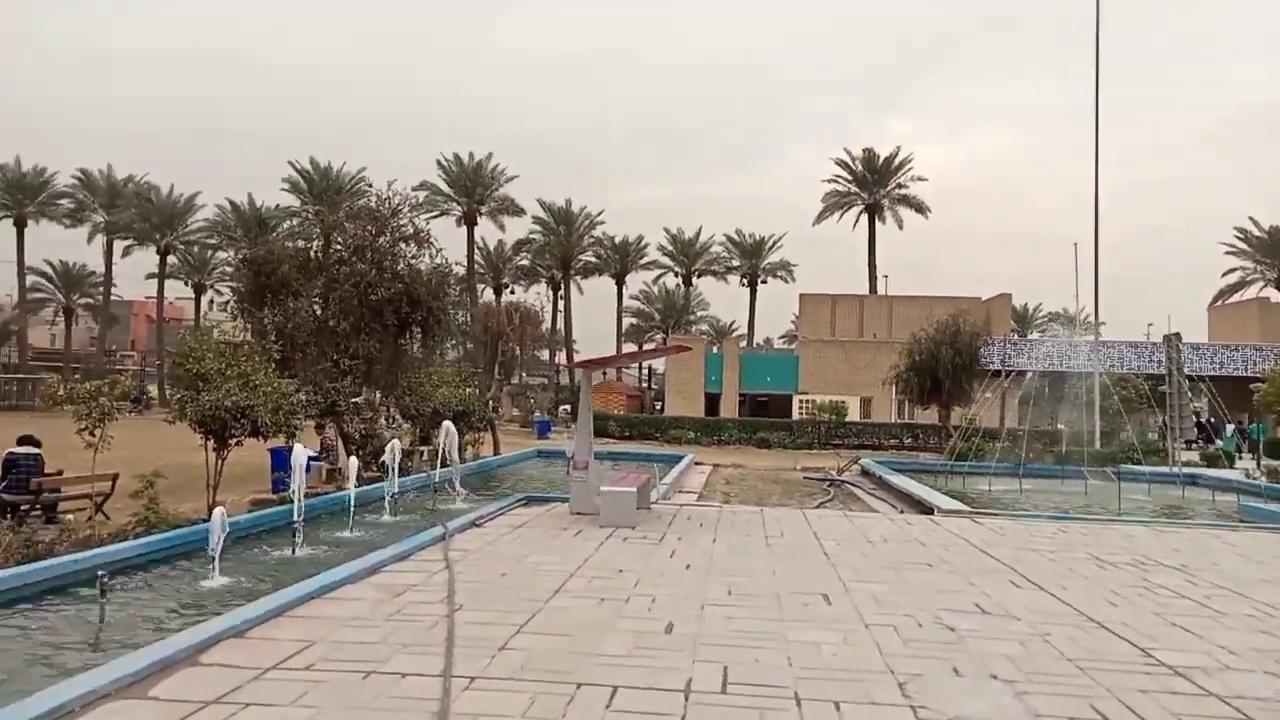car: (557, 404, 570, 417)
fountain: (1, 421, 695, 717), (841, 308, 1278, 525), (865, 297, 1278, 526), (197, 504, 233, 588)
person: (0, 433, 63, 525)
tree: (236, 155, 456, 473), (273, 155, 375, 463), (160, 324, 306, 519), (409, 149, 526, 345), (106, 180, 206, 408), (56, 161, 149, 378), (518, 196, 605, 422), (811, 143, 931, 294), (1207, 214, 1279, 459), (202, 190, 295, 359), (0, 152, 69, 375), (880, 307, 990, 438), (41, 372, 136, 521), (620, 280, 710, 412), (468, 235, 530, 408), (392, 360, 498, 461), (23, 256, 105, 386), (710, 227, 797, 348), (277, 154, 372, 262), (1036, 304, 1105, 450), (586, 231, 653, 381), (156, 238, 231, 337), (990, 300, 1047, 429), (1207, 214, 1279, 308), (501, 300, 549, 426), (621, 280, 709, 346), (1158, 331, 1198, 464), (648, 223, 719, 291), (698, 316, 745, 417), (471, 235, 528, 306), (1007, 300, 1046, 375), (620, 318, 661, 386), (1248, 360, 1279, 436), (1037, 304, 1105, 338), (699, 316, 744, 349), (1008, 300, 1045, 338), (776, 311, 799, 348)
